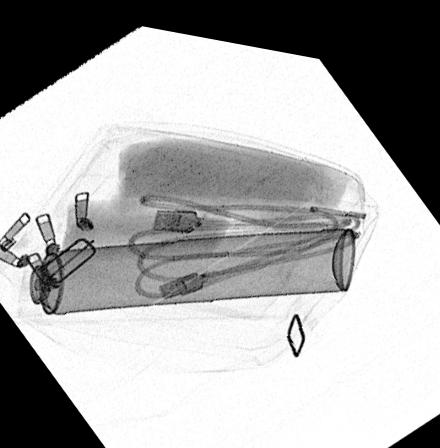Sprayer: (0, 214, 354, 319)
